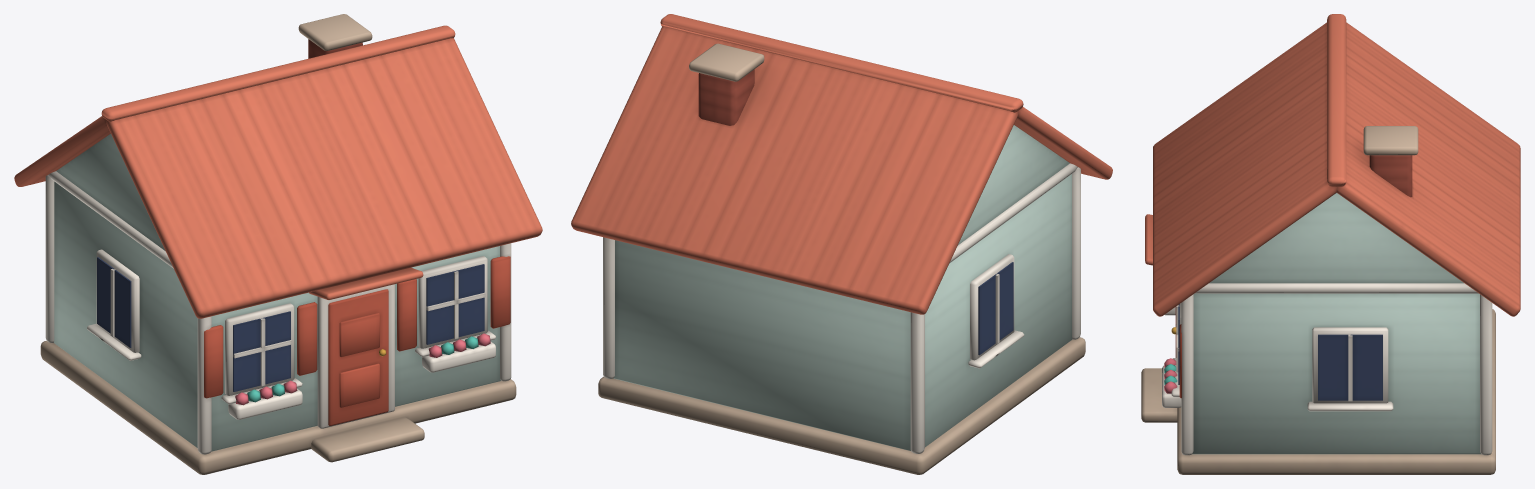
Rendered from StartKit_HouseA_Mint.fbx.
3 views of the same model, side by side, from view 1: azimuth 30°, elevation 25°; view 2: azimuth 150°, elevation 25°; view 3: azimuth 270°, elevation 25° (orthographic). The views are drawn at different scales.
Parts seen in each view (by area): view 1: HouseA_Mint; view 2: HouseA_Mint; view 3: HouseA_Mint.
Part boxes in pixels (<box>): HouseA_Mint: <box>14,14,542,474</box>; HouseA_Mint: <box>571,14,1112,474</box>; HouseA_Mint: <box>1141,14,1520,474</box>.
Size of the model in its own units: 5.76 by 4.92 by 5.53.
Materials: 1 (1 with a texture image).
